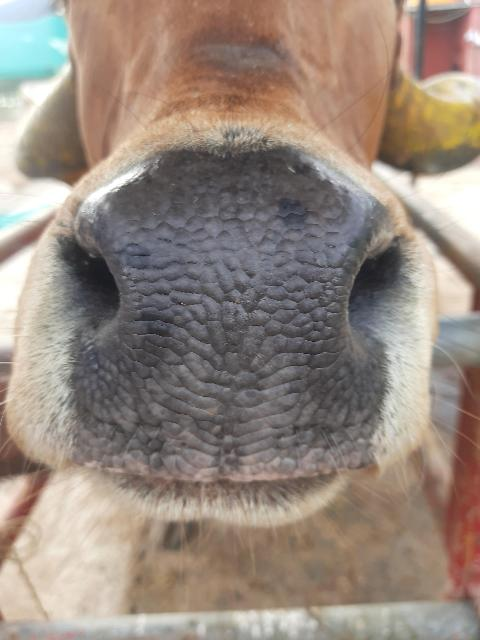Muzzle: (90, 182, 384, 474)
